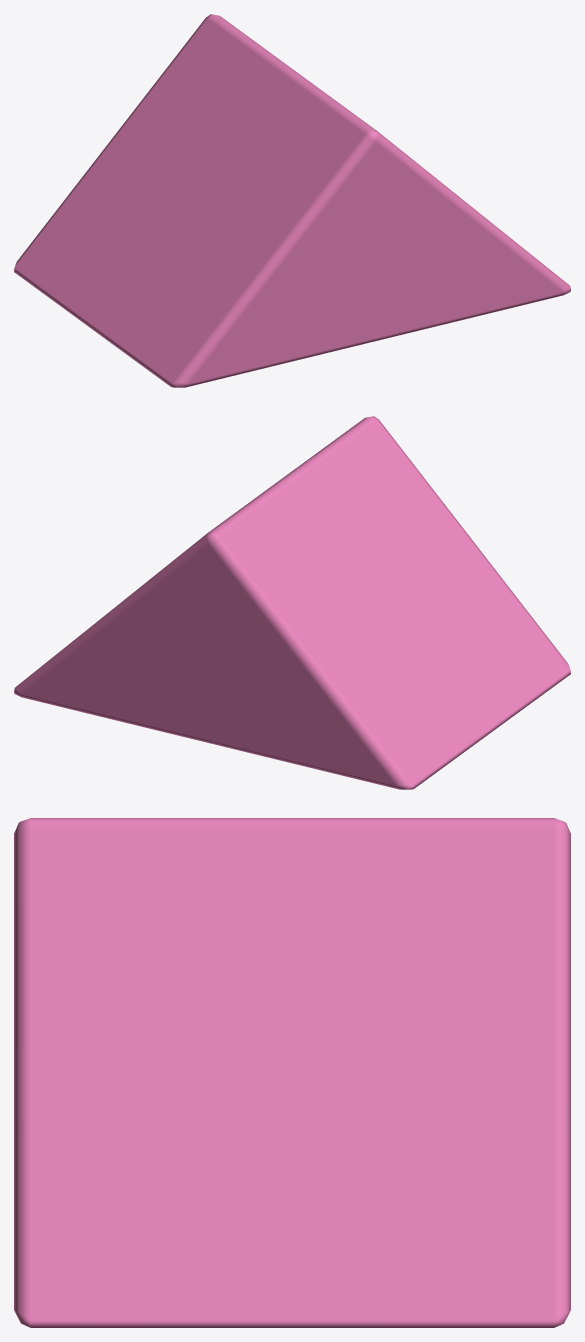
File: prism.glb
3 renders of one model, top to bottom at view 1: azimuth 30°, elevation 25°; view 2: azimuth 150°, elevation 25°; view 3: azimuth 270°, elevation 25°, orthographic. The views are drawn at different scales.
Parts seen in each view (by area): view 1: OnePrism; view 2: OnePrism; view 3: OnePrism.
Part boxes in pixels (x1,y1,x2,y2): OnePrism: (14,14,570,387); OnePrism: (14,416,570,789); OnePrism: (14,818,570,1327).
Size of the model in its own units: 0.974 by 0.4912 by 0.7071.
